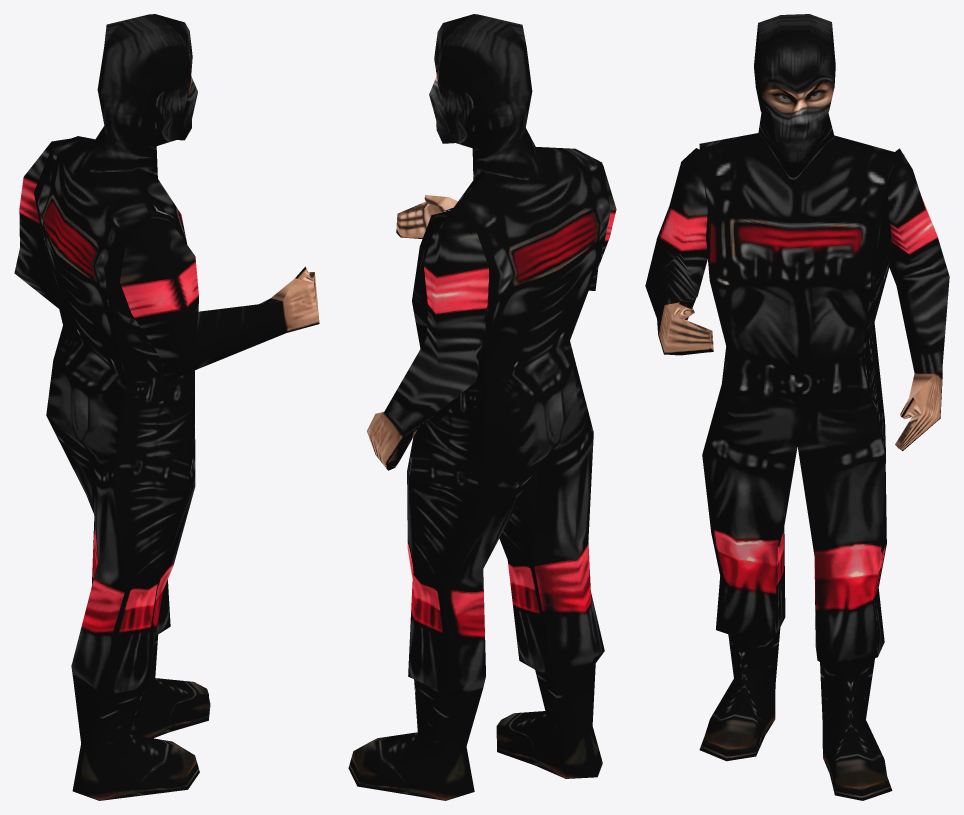
Rendered from spy2_red.glb.
The picture shows the model from 3 angles, left to right: view 1: azimuth 30°, elevation 25°; view 2: azimuth 150°, elevation 25°; view 3: azimuth 270°, elevation 25°; orthographic projection.
Parts seen in each view (by area): view 1: spy2; view 2: spy2; view 3: spy2.
Part boxes in pixels (x1,y1,x2,y2): spy2: (14,14,319,800); spy2: (348,14,616,800); spy2: (645,14,949,800).
Size of the model in its own units: 23.41 by 74.5 by 28.01.
Materials: 1 (1 with a texture image).
